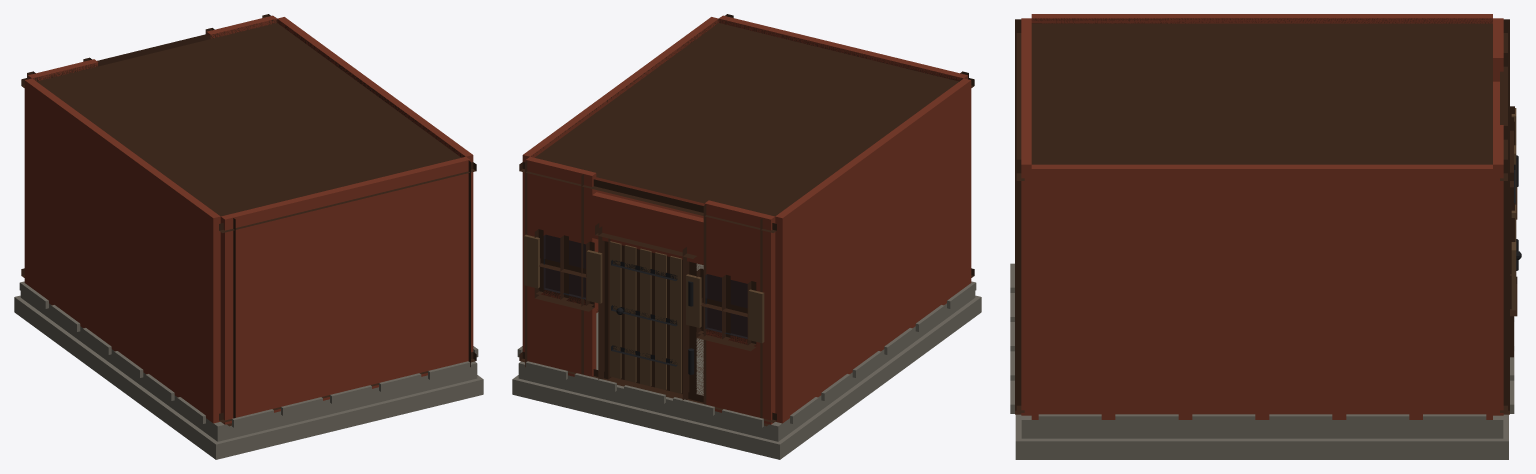
File: GalakasMidCity_LWR_W03D04_BrickShopfront_01.obj
3 renders of one model, left to right at view 1: azimuth 30°, elevation 25°; view 2: azimuth 150°, elevation 25°; view 3: azimuth 270°, elevation 25°, orthographic. The views are drawn at different scales.
Parts seen in each view (by area): view 1: lower_back_wall, lower_ceiling_cap, lower_left_wall, stone_plinth_base, stone_plinth_raised, lower_right_wall, lower_back_course_534, lower_front_right_wall, lower_back_post_-2_9, lower_back_post_2_9, lower_front_left_wall; view 2: lower_ceiling_cap, lower_left_wall, lower_front_left_wall, lower_front_right_wall, stone_plinth_base, stone_plinth_raised, lower_front_above_door, lower_right_wall, lower_main_door_slab, lower_back_wall, lower_main_door_plank_3, lower_front_window_0_glass (+20 smaller); view 3: lower_right_wall, lower_ceiling_cap, stone_plinth_base, stone_plinth_raised, lower_left_wall, lower_back_wall, lower_front_right_wall, lower_front_post_2_9, lower_back_post_2_9, lower_back_course_534, stone_block_right_0, stone_block_right_1 (+6 smaller).
Boxes of the visible parts, x1,y1,x2,y2 form: lower_back_wall: (220,156,469,424); lower_ceiling_cap: (33,19,464,216); lower_left_wall: (24,78,220,423); stone_plinth_base: (14,295,483,459); stone_plinth_raised: (20,281,477,441); lower_right_wall: (277,17,473,352); lower_back_course_534: (219,162,476,232); lower_front_right_wall: (206,15,277,38); lower_back_post_-2_9: (227,218,235,426); lower_back_post_2_9: (468,160,470,367); lower_front_left_wall: (28,59,98,81); lower_ceiling_cap: (531,19,961,216); lower_left_wall: (775,78,971,423); lower_front_left_wall: (704,200,775,424); lower_front_right_wall: (526,156,596,376); stone_plinth_base: (512,295,981,459); stone_plinth_raised: (518,263,975,441); lower_front_above_door: (592,192,703,264); lower_right_wall: (522,17,718,352); lower_main_door_slab: (608,238,682,397); lower_back_wall: (718,15,967,81); lower_main_door_plank_3: (624,245,636,382); lower_front_window_0_glass: (705,274,747,338); lower_right_wall: (1031,164,1492,419); lower_ceiling_cap: (1031,18,1492,164); stone_plinth_base: (1015,414,1508,459); stone_plinth_raised: (1021,415,1503,438); lower_left_wall: (1031,14,1492,23); lower_back_wall: (1021,18,1031,415); lower_front_right_wall: (1493,125,1503,415); lower_front_post_2_9: (1503,159,1509,414); lower_back_post_2_9: (1015,159,1021,414); lower_back_course_534: (1016,33,1024,180); stone_block_right_0: (1423,414,1486,425); stone_block_right_1: (1346,414,1409,425).
Bounding box in the file's own units: 6.74 × 5.52 × 8.87.
